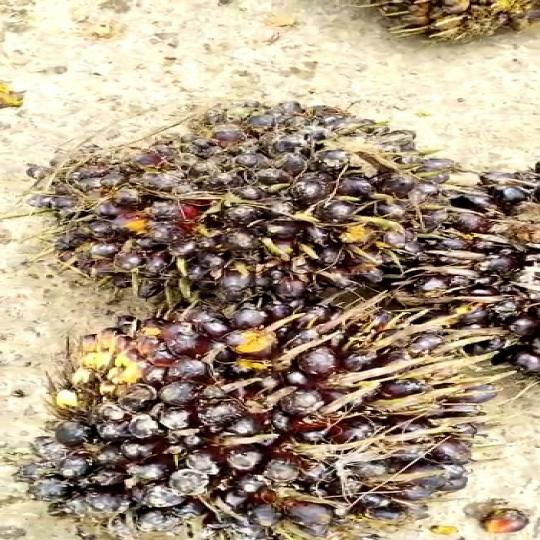mentah: (29, 296, 492, 540), (44, 89, 438, 318)
